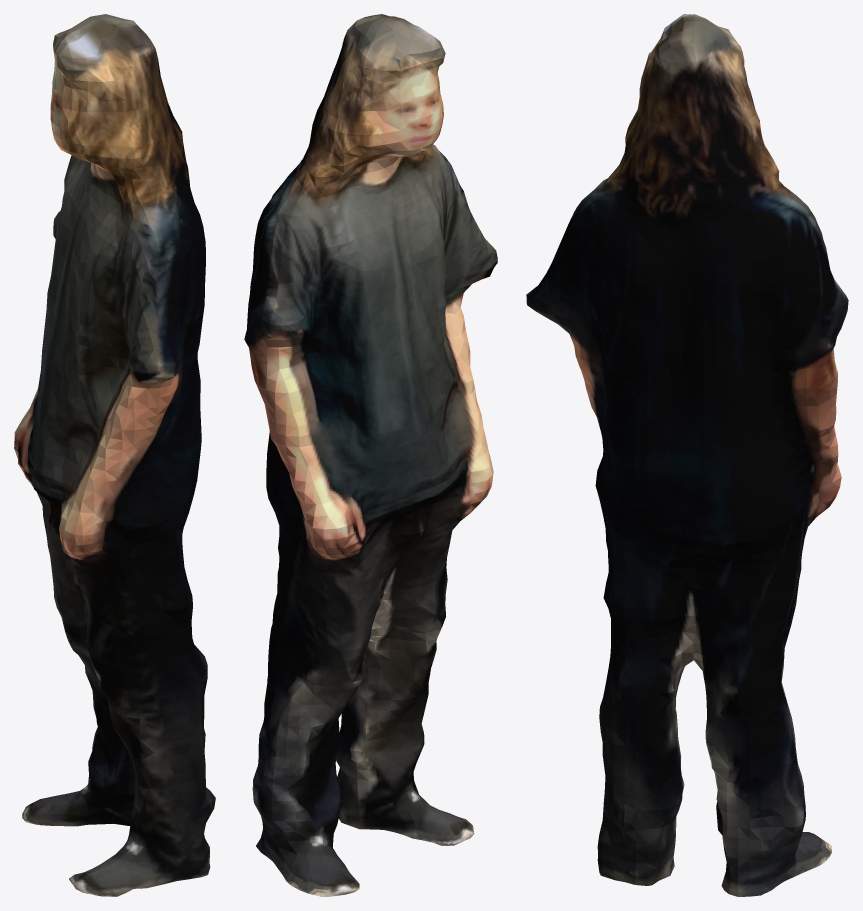
The model's file is Hendrik.glb.
The picture shows the model from 3 angles, left to right: view 1: azimuth 30°, elevation 25°; view 2: azimuth 150°, elevation 25°; view 3: azimuth 270°, elevation 25°; orthographic projection.
Size of the model in its own units: 0.3859 by 1.77 by 0.6247.
Materials: 1 (1 with a texture image).
